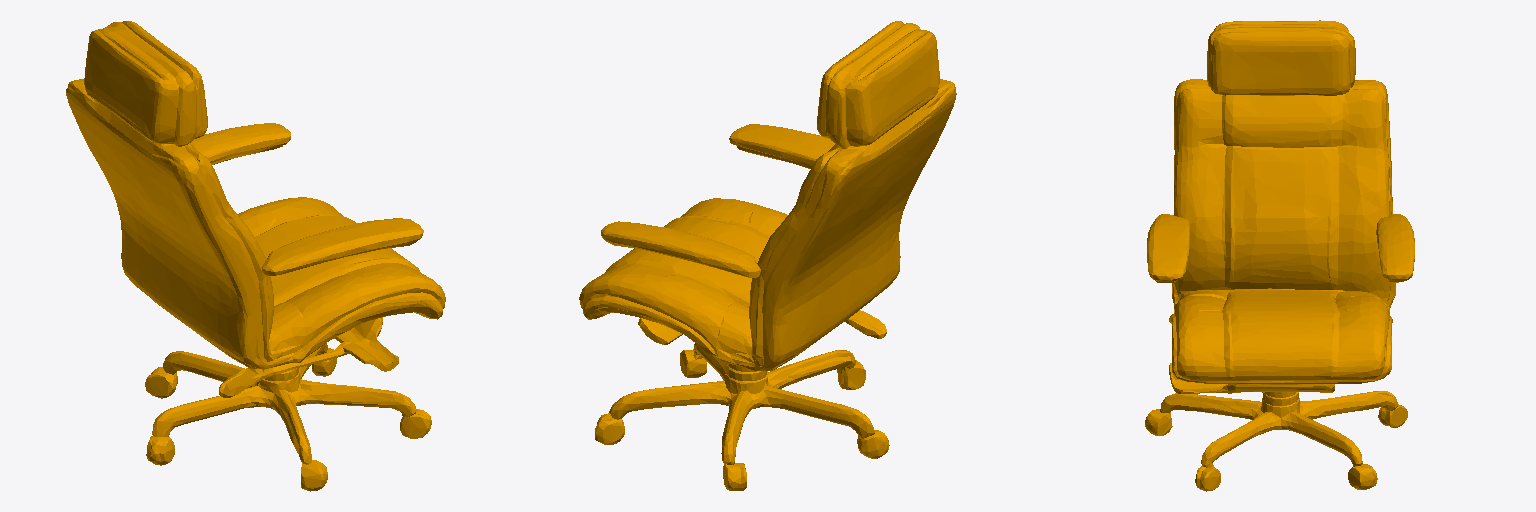
The robot description file, URDF, robot "computer_chair_42":
<?xml version="1.0" ?>
<robot name="computer_chair_42">
   <link name="computer_chair_42">
      <visual>
         <origin xyz="0 0 0" rpy="1.5708 0.0 0.0"/>
         <geometry>
            <mesh filename="mesh/computer_chair_42.obj" scale="1.0 1.0 1.0"/>
         </geometry>
      </visual>
      <collision>
         <origin xyz="0 0 0" rpy="1.5708 0.0 0.0"/>
         <geometry>
            <mesh filename="mesh/computer_chair_42_collision.obj" scale="1.0 1.0 1.0"/>
         </geometry>
         <gazebo>
            <mu1>0.80</mu1>
            <mu2>0.60</mu2>
         </gazebo>
      </collision>
      <inertial>
         <mass value="20.0000"/>
         <origin xyz="0 0 0"/>
         <inertia ixx="1.0" ixy="0.0" ixz="0.0" iyy="1.0" iyz="0.0" izz="1.0"/>
      </inertial>
      <extra_info>
         <scale>1.200000</scale>
         <version>v0.1.5</version>
         <category>computer_chair</category>
         <description>ergonomic red office chair with adjustable headrest, armrests, and wheeled base</description>
         <min_height>1.1</min_height>
         <max_height>1.3</max_height>
         <real_height>1.2</real_height>
         <min_mass>15.0</min_mass>
         <max_mass>25.0</max_mass>
         <generate_time>20251021130142</generate_time>
         <gs_model>mesh/computer_chair_42_gs.ply</gs_model>
      </extra_info>
   </link>
   <custom_data>
      <quality>
         <MeshGeoChecker>YES</MeshGeoChecker>
         <ImageSegChecker>YES</ImageSegChecker>
         <ImageAestheticChecker>5.026994585990906</ImageAestheticChecker>
         <overall>YES</overall>
      </quality>
   </custom_data>
</robot>

--- Render facts (derived) ---
3 views of the same robot in one strip: view 1: azimuth 30°, elevation 25°; view 2: azimuth 150°, elevation 25°; view 3: azimuth 270°, elevation 25° (orthographic).
Robot: computer_chair_42 — 1 links, 0 joints (none); root link computer_chair_42; default pose: all joints at 0.
Links seen in each view (by area): view 1: computer_chair_42; view 2: computer_chair_42; view 3: computer_chair_42.
Link boxes in pixels (x1,y1,x2,y2): computer_chair_42: [66, 21, 445, 491]; computer_chair_42: [579, 21, 956, 490]; computer_chair_42: [1145, 20, 1414, 491].
Size in the robot's own frame: 0.8308 by 0.8024 by 1.2 metres.
Meshes: 1 distinct files referenced, 1 mesh visuals loaded (1 OBJ).
